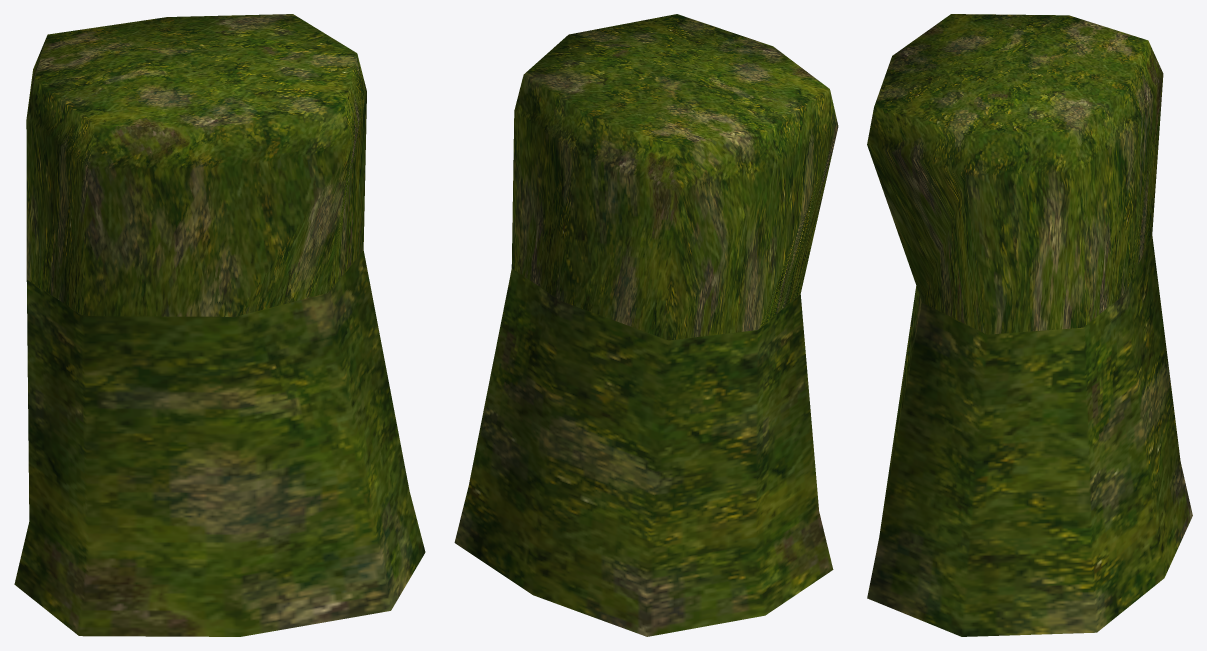
The model's file is OVERHILL_A_01_LINE349.fbx.
The picture shows the model from 3 angles, left to right: view 1: azimuth 30°, elevation 25°; view 2: azimuth 150°, elevation 25°; view 3: azimuth 270°, elevation 25°; orthographic projection. The views are drawn at different scales.
Parts seen in each view (by area): view 1: OVERHILL_A_01_LINE349; view 2: OVERHILL_A_01_LINE349; view 3: OVERHILL_A_01_LINE349.
Part boxes in pixels (x1,y1,x2,y2): OVERHILL_A_01_LINE349: (14, 14, 425, 636); OVERHILL_A_01_LINE349: (454, 14, 838, 636); OVERHILL_A_01_LINE349: (867, 14, 1192, 636).
Bounding box in the file's own units: 15672 × 22657 × 13866.
1 material, 1 textured.
